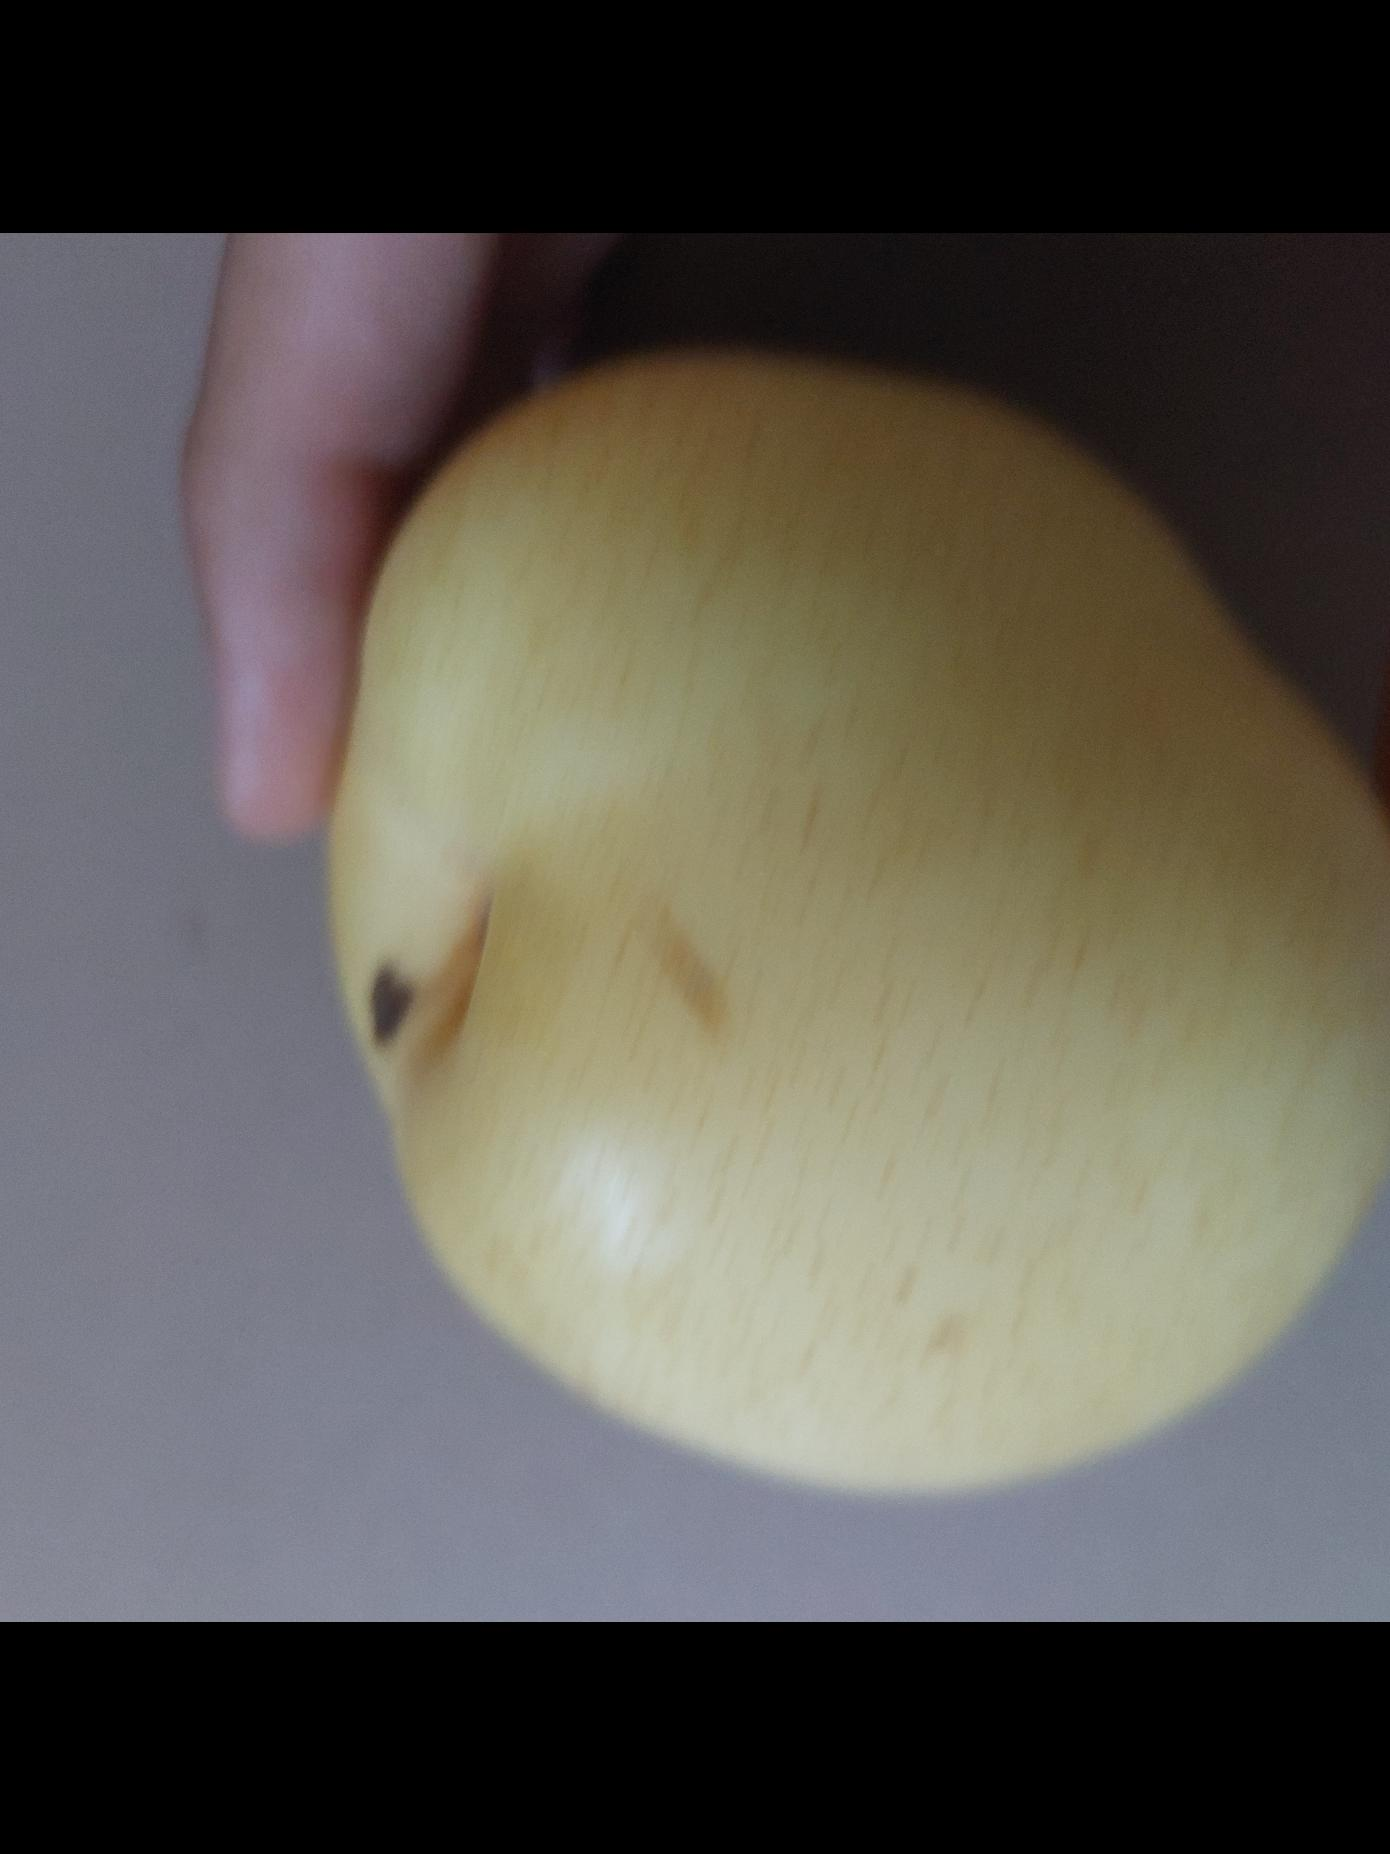Good Pear: (315, 342, 1390, 1483)
